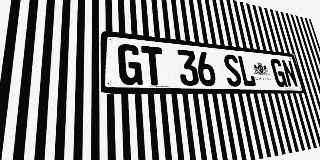3: (177, 49, 199, 86)
6: (195, 51, 217, 86)
G: (117, 43, 143, 85), (269, 58, 288, 87)
L: (237, 55, 257, 87)
N: (281, 59, 299, 87)
S: (222, 54, 243, 87)
T: (141, 46, 165, 85)
